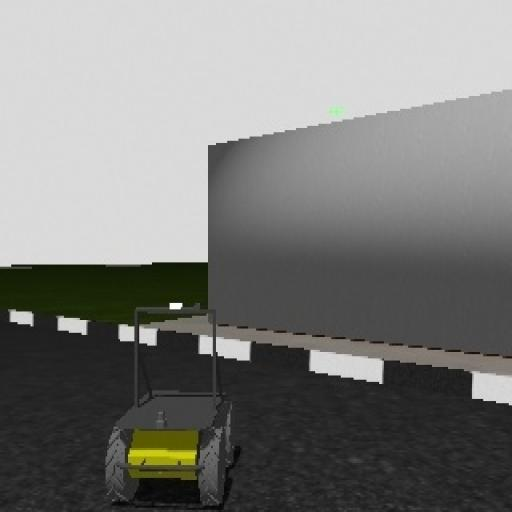huskya200: (102, 296, 248, 508)
